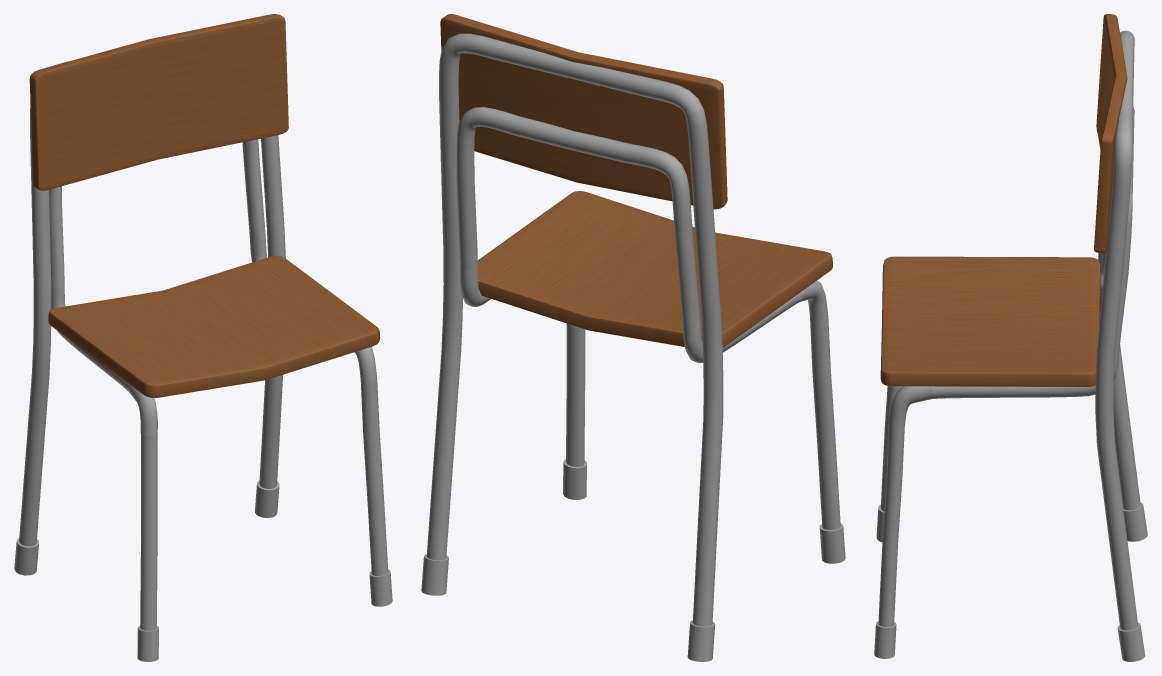
The model's file is chair.fbx.
3 renders of one model, left to right at view 1: azimuth 30°, elevation 25°; view 2: azimuth 150°, elevation 25°; view 3: azimuth 270°, elevation 25°, orthographic. The views are drawn at different scales.
Parts seen in each view (by area): view 1: chair; view 2: chair; view 3: chair.
Part boxes in pixels (x1,y1,x2,y2): chair: [14, 14, 392, 661]; chair: [421, 14, 845, 661]; chair: [874, 14, 1147, 661].
Size of the model in its own units: 58.2 by 109 by 51.68.
